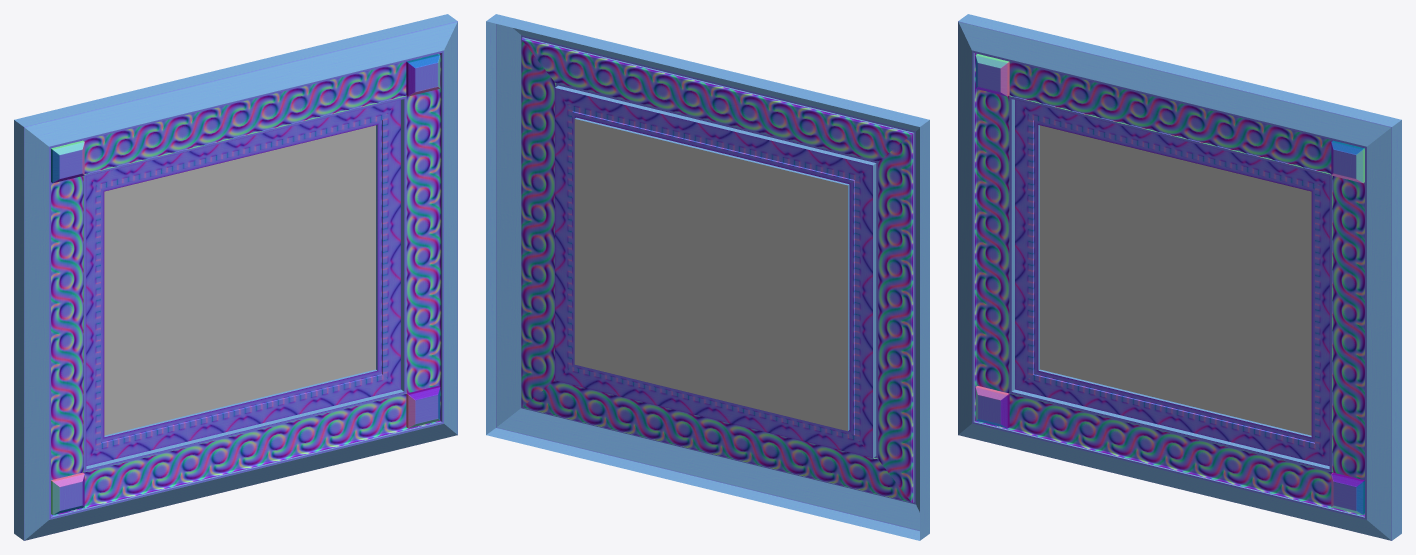
3 renders of one model, left to right at view 1: azimuth 30°, elevation 25°; view 2: azimuth 150°, elevation 25°; view 3: azimuth 330°, elevation 25°, orthographic.
Visible parts, largest first — view 1: _14_26_frame, _14_26; view 2: _14_26_frame, _14_26; view 3: _14_26_frame, _14_26.
Boxes of the visible parts, <box> form: _14_26_frame: <box>14,14,457,540</box>; _14_26: <box>104,125,375,435</box>; _14_26_frame: <box>486,14,929,540</box>; _14_26: <box>574,119,847,431</box>; _14_26_frame: <box>958,14,1401,540</box>; _14_26: <box>1040,125,1311,435</box>.
Bounding box in the file's own units: 90.5 × 82.5 × 6.49.
